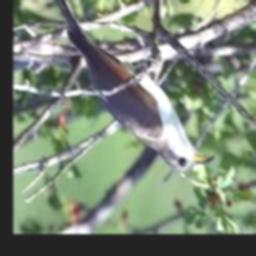Cuckoo: (40, 0, 215, 172)
